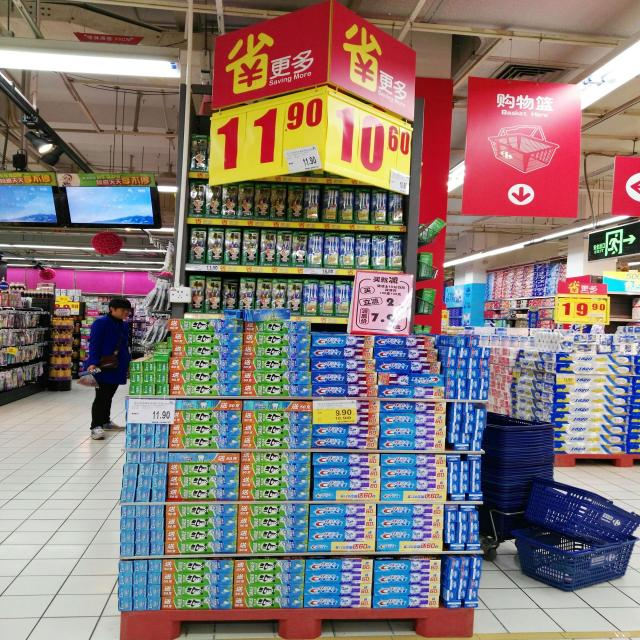unorganised: (175, 401, 312, 411), (169, 452, 240, 464), (377, 373, 443, 384), (222, 274, 238, 313), (240, 308, 292, 320)
